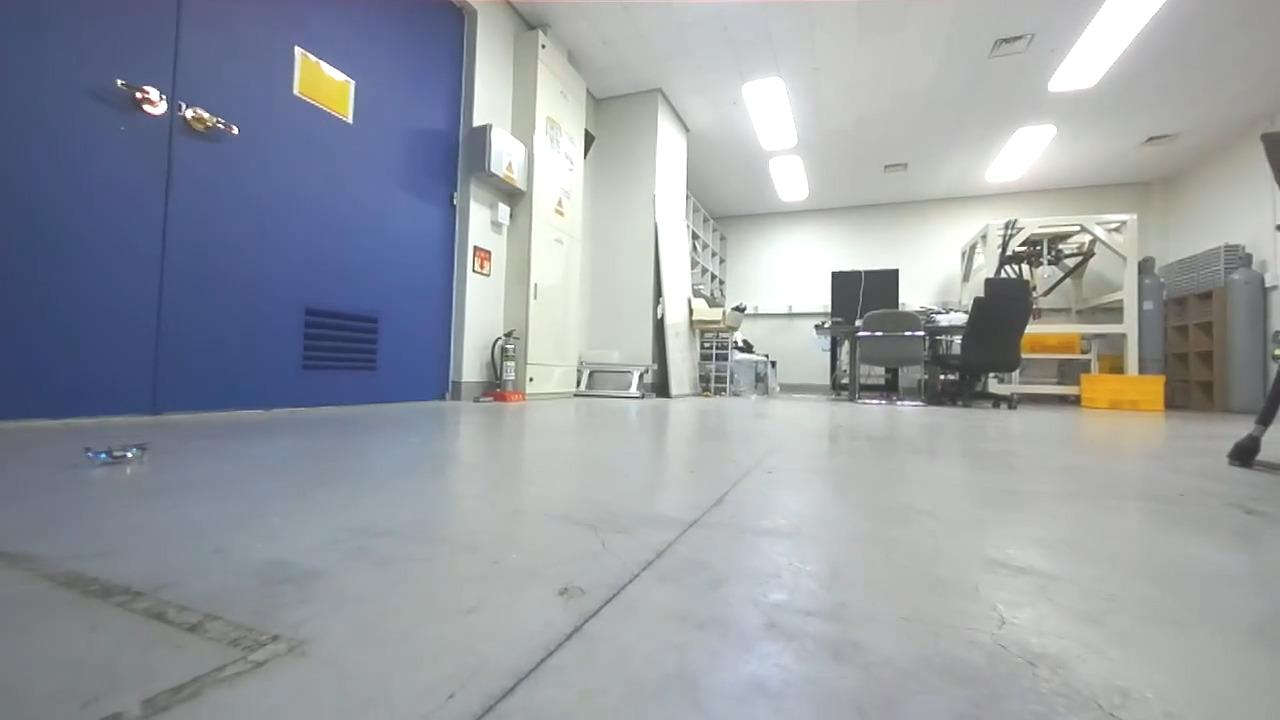crazyflie: (75, 439, 151, 470)
